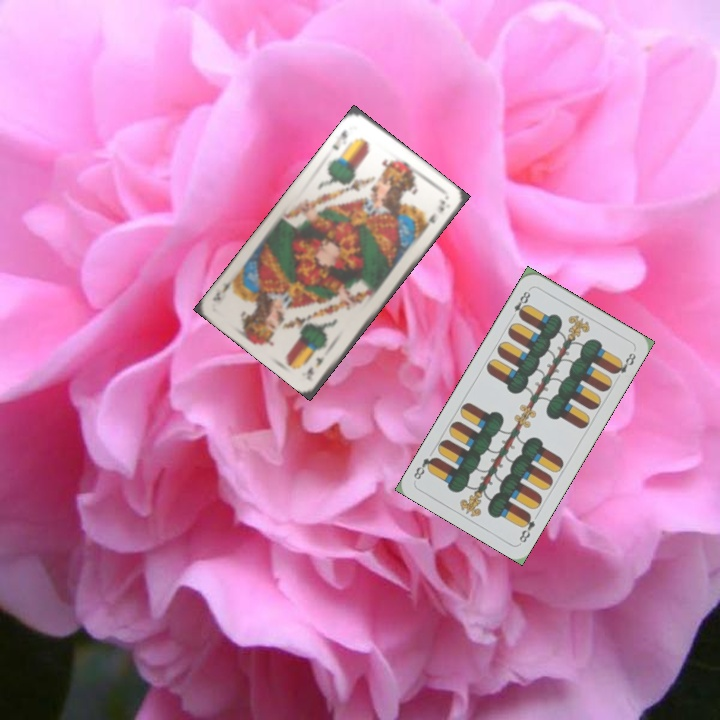E8: (507, 285, 533, 321), (515, 510, 538, 545)
EK: (302, 352, 326, 378), (328, 126, 350, 153)
